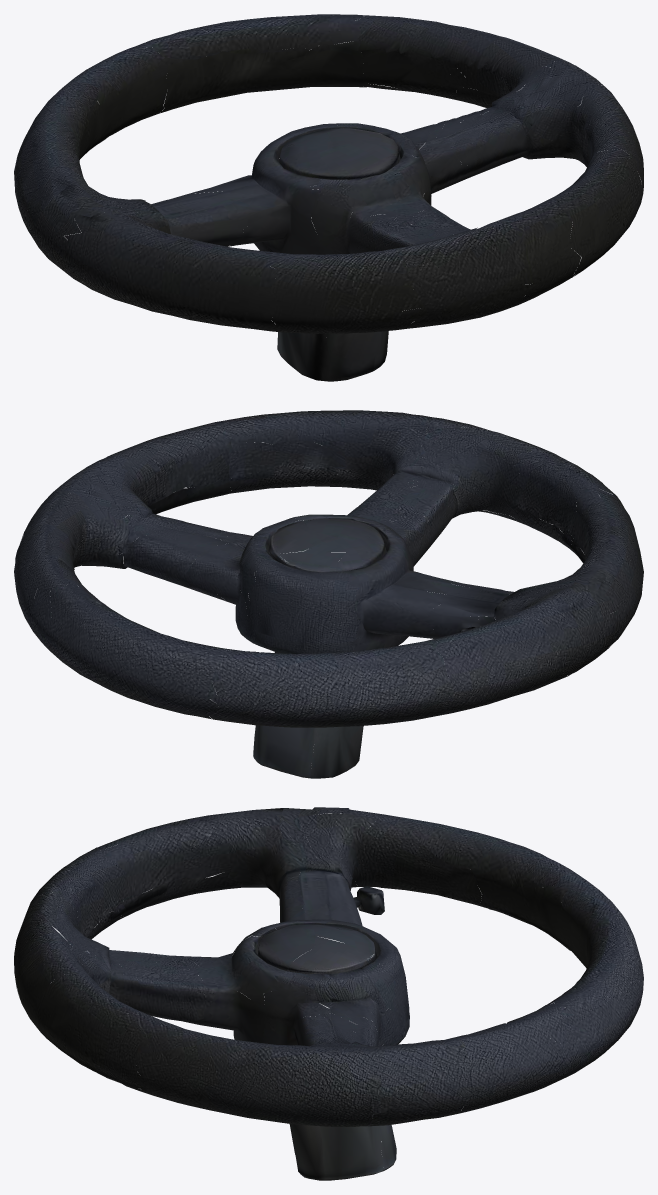
File: cabine-volante.glb
3 views of the same model, one above another, from view 1: azimuth 30°, elevation 25°; view 2: azimuth 150°, elevation 25°; view 3: azimuth 270°, elevation 25° (orthographic). The views are drawn at different scales.
Visible parts, largest first — view 1: cabine-volante; view 2: cabine-volante; view 3: cabine-volante.
Part boxes in pixels (x1,y1,x2,y2): cabine-volante: (14, 14, 643, 381); cabine-volante: (14, 410, 643, 778); cabine-volante: (14, 807, 643, 1180).
Size of the model in its own units: 1.05 by 0.4331 by 1.04.
Materials: 1 (1 with a texture image).
